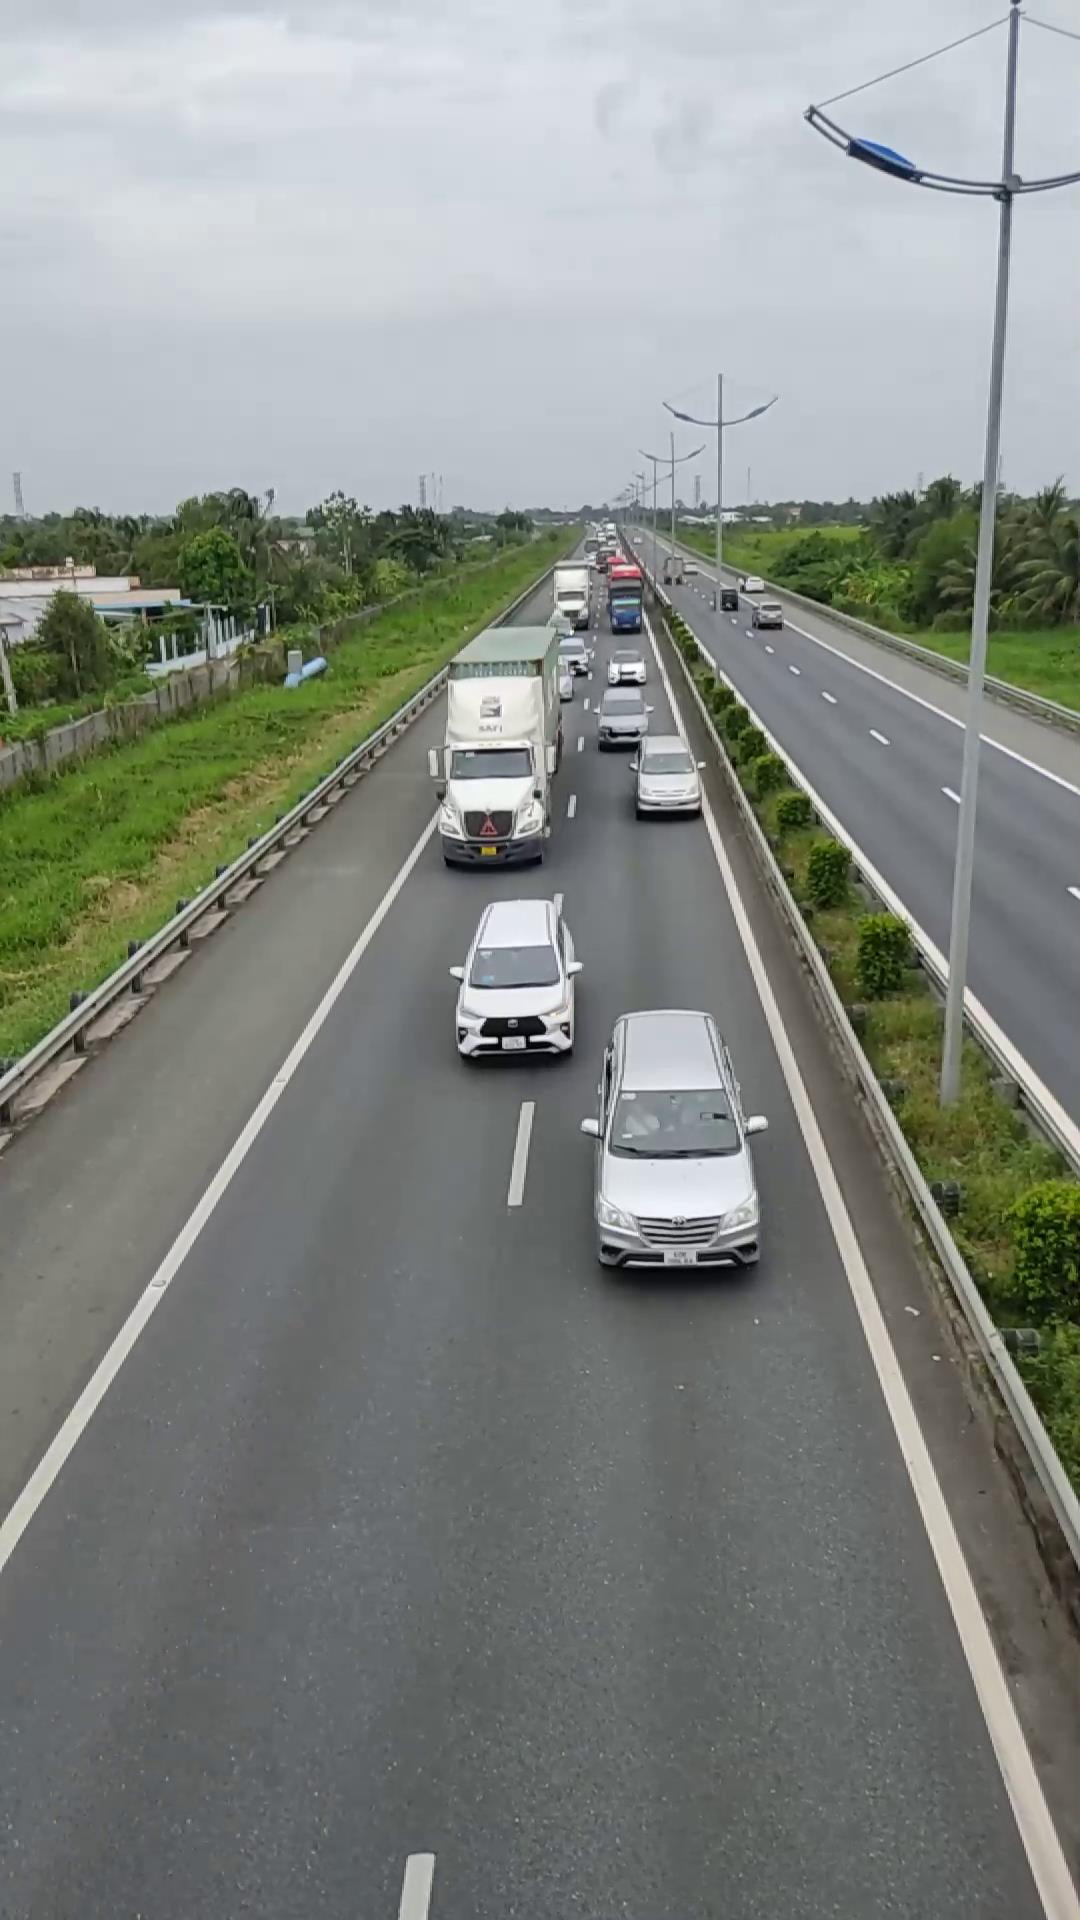car: (582, 1006, 766, 1273), (448, 895, 582, 1061), (631, 735, 705, 817)
container: (432, 623, 566, 867)
